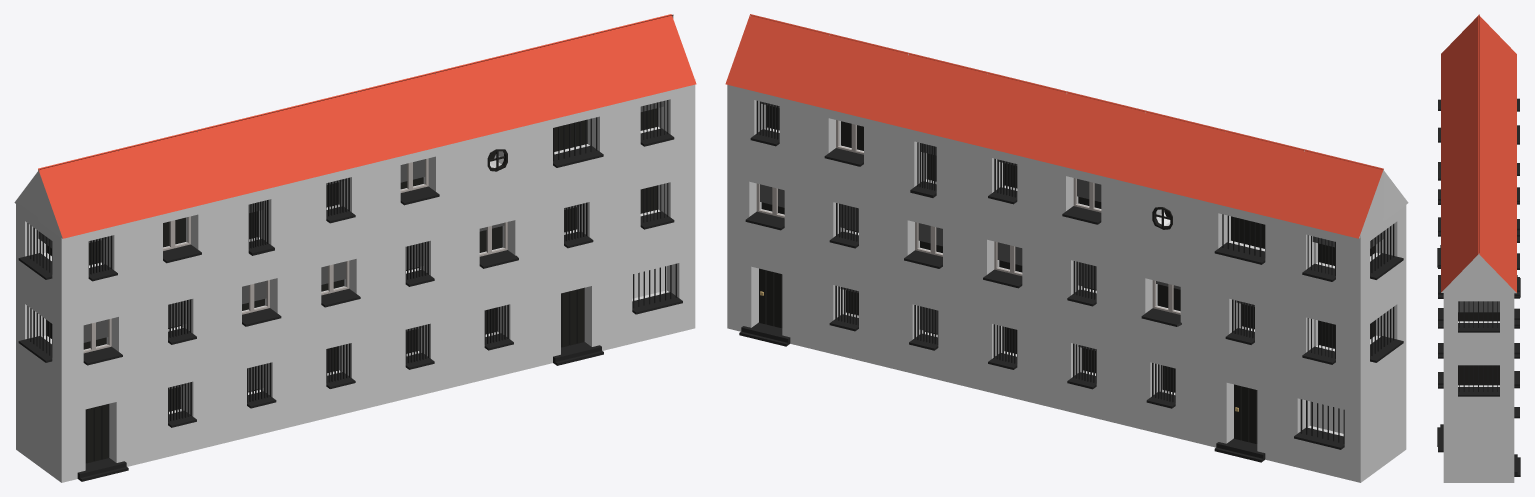
Rendered from Casa_Procedural_5.fbx.
3 renders of one model, left to right at view 1: azimuth 30°, elevation 25°; view 2: azimuth 150°, elevation 25°; view 3: azimuth 270°, elevation 25°, orthographic. The views are drawn at different scales.
Visible parts, largest first — view 1: 5; view 2: 5; view 3: 5.
Boxes of the visible parts, x1,y1,x2,y2 form: 5: (14, 14, 696, 482); 5: (725, 14, 1408, 482); 5: (1437, 14, 1520, 482).
Bounding box in the file's own units: 816 × 359 × 118.
